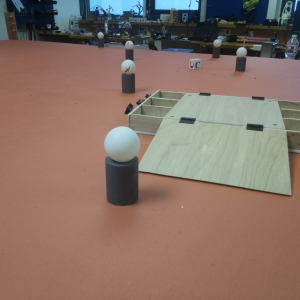obstacle: (104, 129, 138, 201), (122, 60, 135, 93), (235, 47, 245, 70), (212, 38, 222, 59), (124, 41, 133, 59), (97, 32, 105, 51)
side: (120, 90, 164, 133)
slope: (145, 120, 292, 198)
